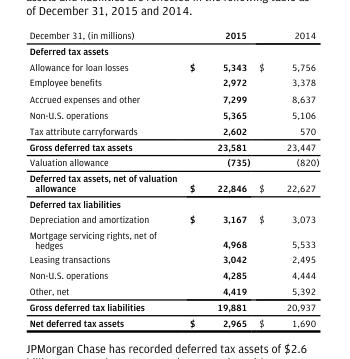table: (28, 29, 318, 327)
table column: (28, 29, 182, 327), (182, 29, 253, 327), (253, 29, 318, 327)
table column header: (28, 29, 318, 42)
table projected row header: (28, 42, 318, 58), (28, 195, 318, 211)
table row: (28, 170, 318, 195), (28, 227, 318, 252), (28, 90, 318, 107), (28, 42, 318, 58), (28, 58, 318, 74), (28, 74, 318, 90), (28, 122, 318, 138), (28, 138, 318, 154), (28, 154, 318, 170), (28, 195, 318, 211), (28, 211, 318, 227), (28, 282, 318, 298), (28, 298, 318, 314), (28, 107, 318, 122), (28, 252, 318, 267), (28, 267, 318, 282), (28, 29, 318, 42), (28, 314, 318, 327)
